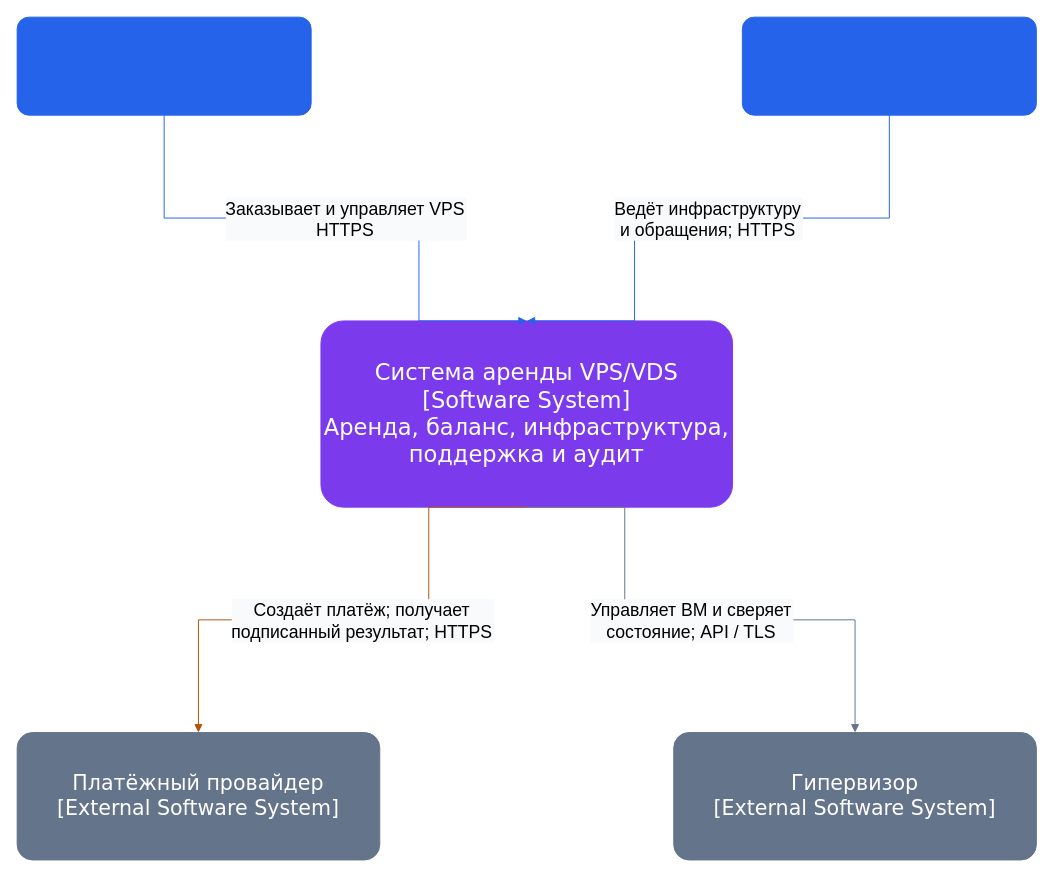
This 1054x877 diagram has some shape labels left out. Each missing label, with the centre of its shape:
"Клиент [Person]" goes at point (163, 65).
"Персонал [Person]" goes at point (888, 65).
